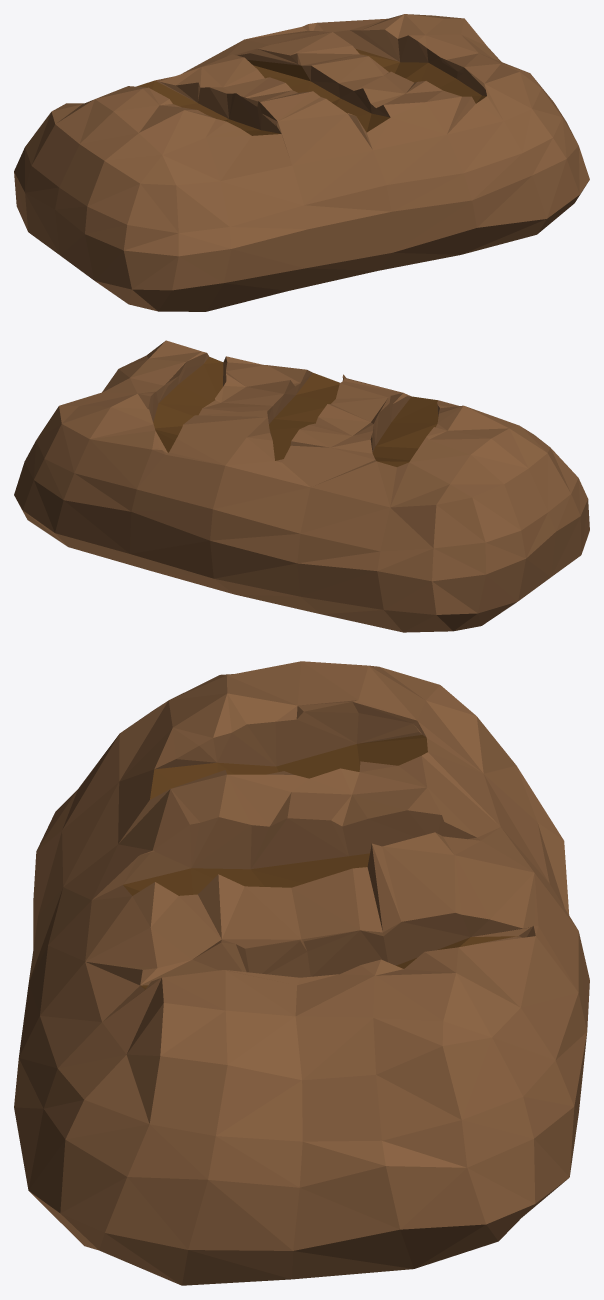
File: bread.fbx
The picture shows the model from 3 angles, top to bottom: view 1: azimuth 30°, elevation 25°; view 2: azimuth 150°, elevation 25°; view 3: azimuth 270°, elevation 25°; orthographic projection. The views are drawn at different scales.
Visible parts, largest first — view 1: Cube; view 2: Cube; view 3: Cube.
Part boxes in pixels (x1,y1,x2,y2): Cube: [14, 14, 589, 311]; Cube: [14, 340, 589, 632]; Cube: [14, 661, 589, 1285].
Size of the model in its own units: 303 by 107 by 177.
